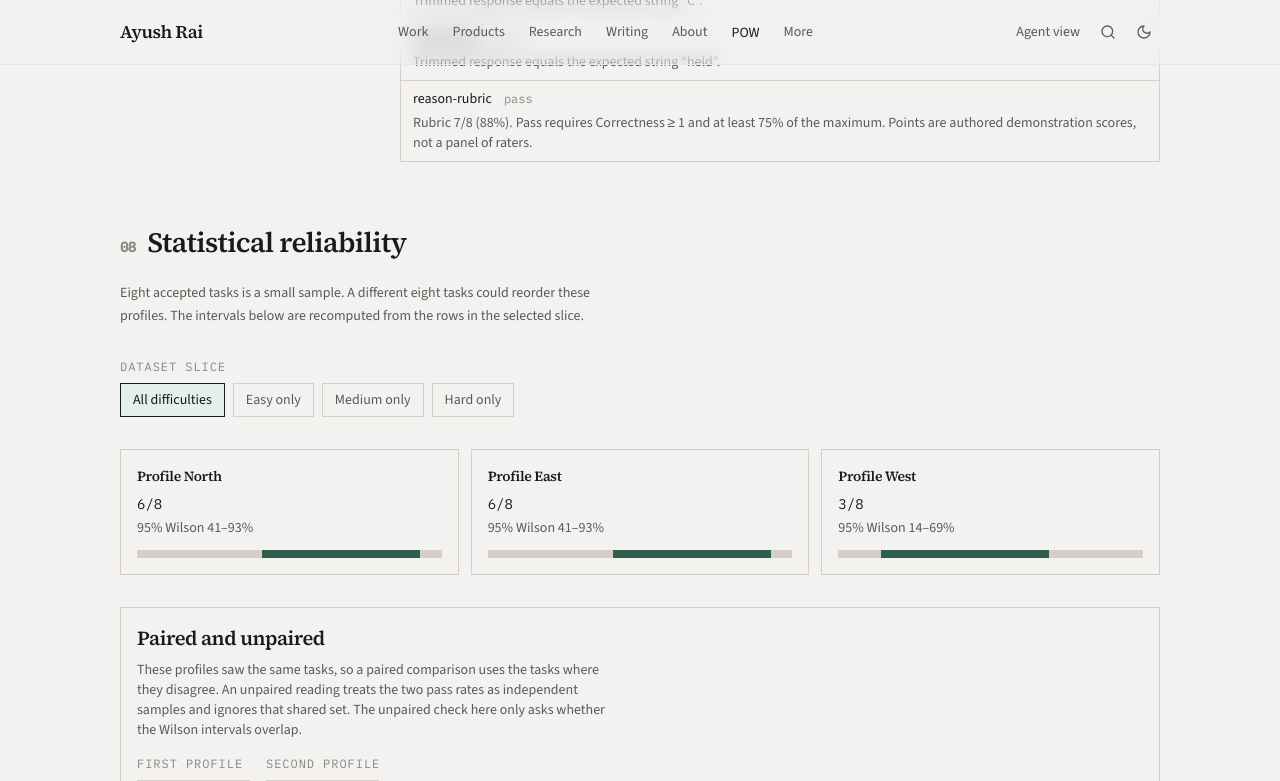
it: AI benchmark engineering page › changes the difficulty slice and refuses a profile compared with itself
(page scrolled)
Click the button "Hard only". click: coordinates (473, 400)
box: top-left (432, 383), bottom-right (514, 417)
(page scrolled)
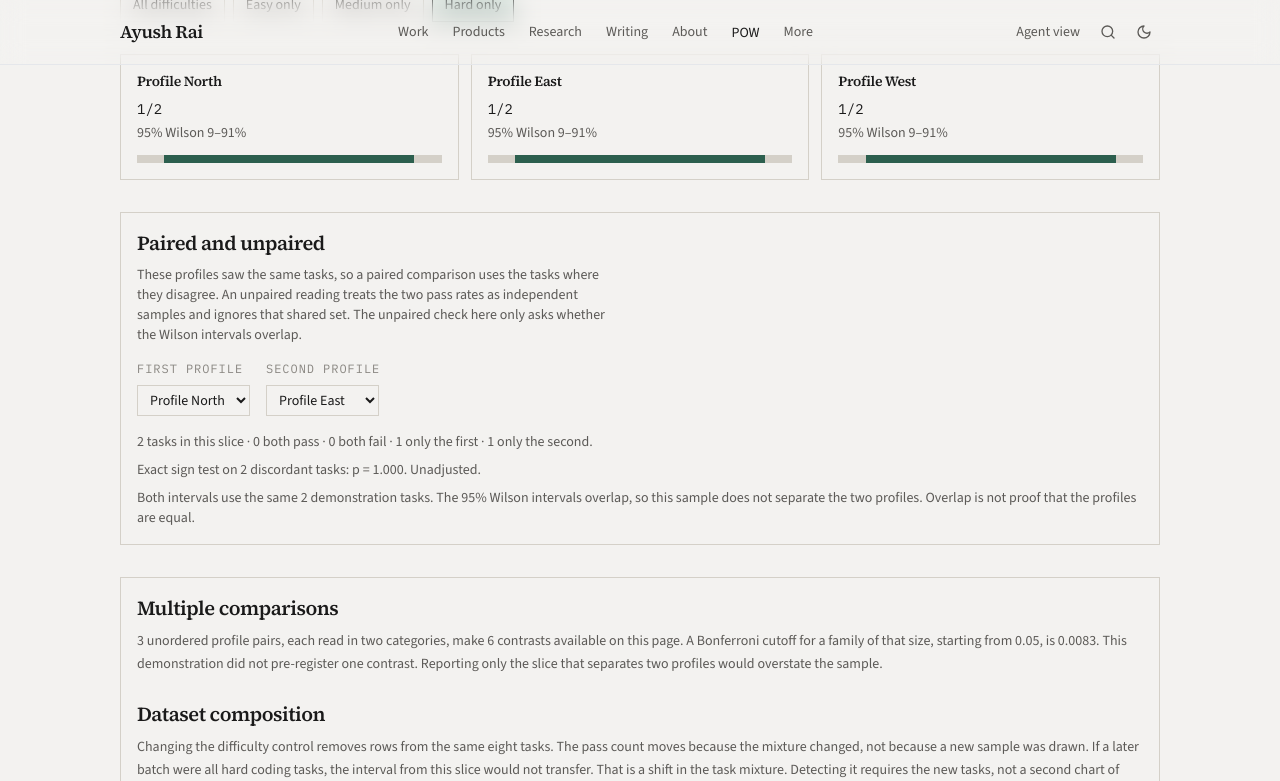
Expected: the 1st text "1/2" is shown, top-left (137, 100), bottom-right (162, 118)
Select "Profile North" in the dropdown labelled "Second profile". click: coordinates (322, 401)
box: top-left (266, 385), bottom-right (379, 416)
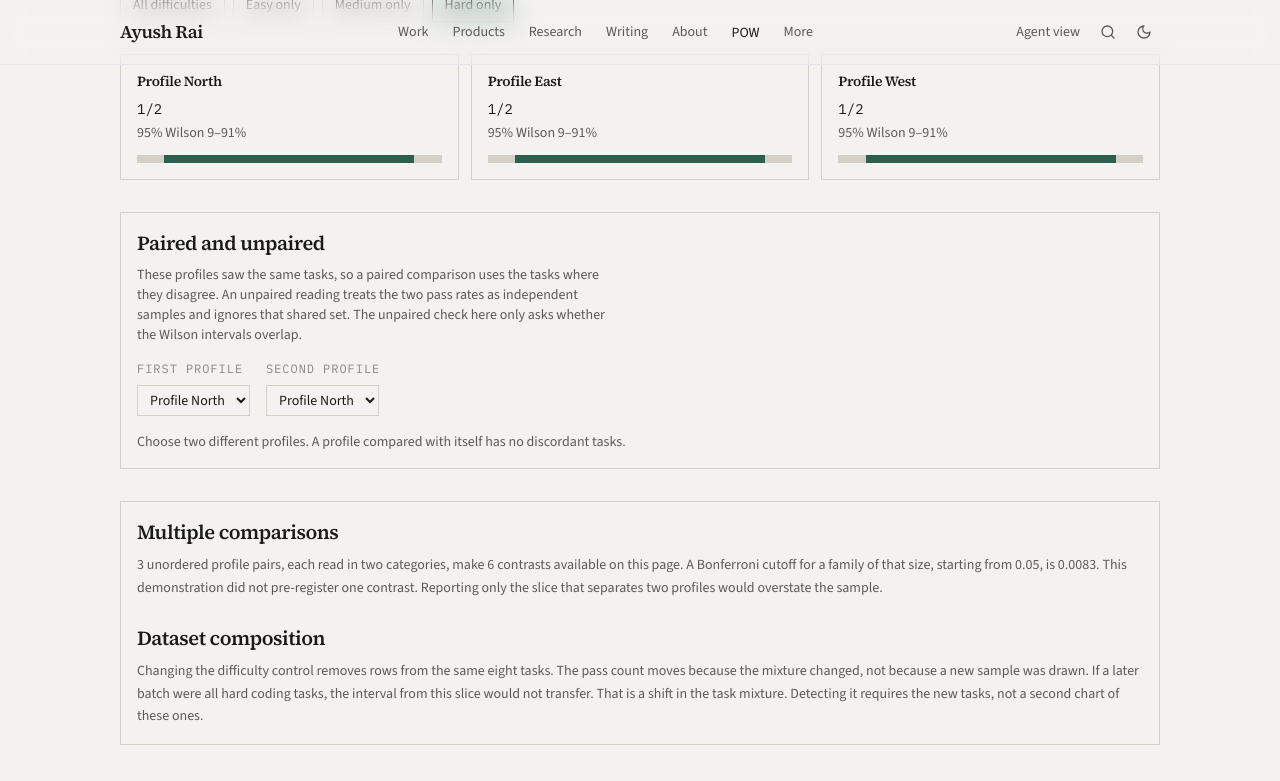
Expected: the text "Choose two different profiles" is shown, top-left (137, 432), bottom-right (626, 451)
